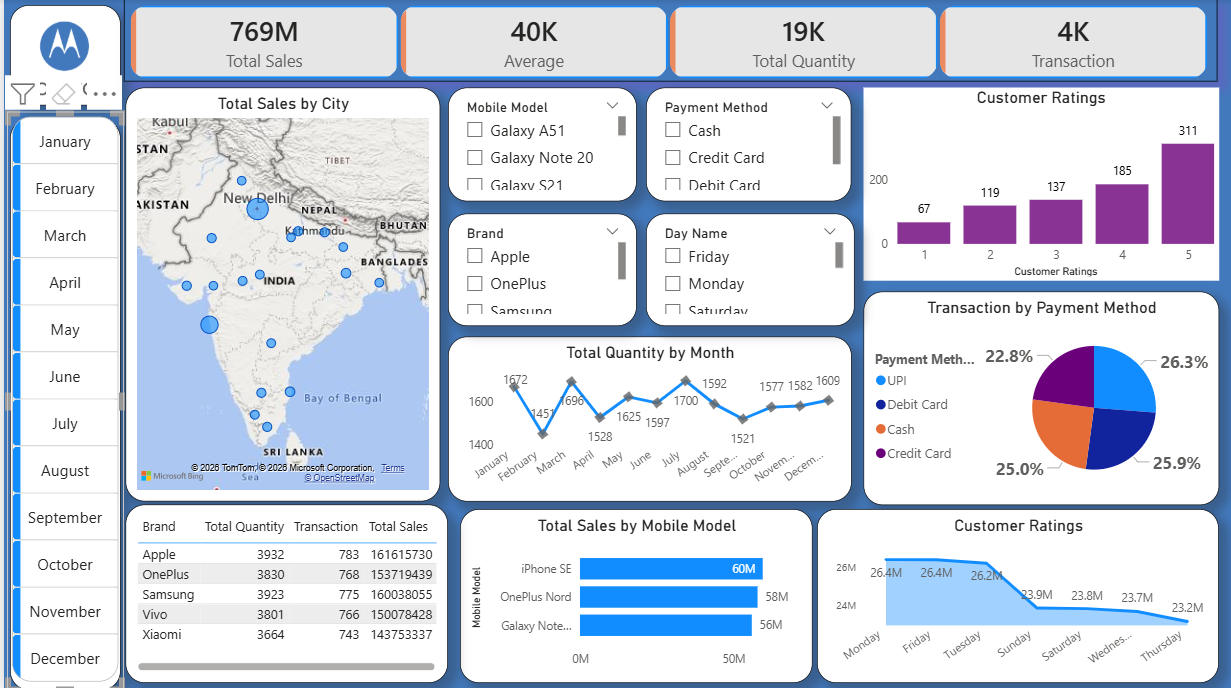

The page's visual inventory and layout, read from the dashboard file:
{"tool":"powerbi","page":{"name":"Page 1","canvas":[1280,720],"ordinal":0},"visuals":[{"type":"shape","box":[6.3,6.3,115.7,104.7],"z":0},{"type":"image","box":[12.5,6.3,101.6,111],"z":1000},{"type":"shape","box":[6.3,125,115.7,595.5],"z":2000},{"type":"advancedSlicerVisual","fields":{"Values":["Sales_Data.Date.Variation.Date Hierarchy.Month"]},"box":[3.1,117.2,121.9,603.3],"z":3000},{"type":"cardVisual","fields":{"Data":["Sales_Data.Total Sales","Sales_Data.Average","Sales_Data.Total Quantity","Sales_Data.Transaction"]},"box":[125,0,1139.4,86],"z":4000},{"type":"map","fields":{"Category":["Sales_Data.City"],"Size":["Sales_Data.Total Sales"]},"box":[126.6,92.2,328.2,431.4],"z":5000},{"type":"lineChart","fields":{"Category":["Sales_Data.Date.Variation.Date Hierarchy.Month","Sales_Data.Date.Variation.Date Hierarchy.Day"],"Y":["Sales_Data.Total Quantity"]},"box":[462.6,351.7,420.4,171.9],"z":6000},{"type":"clusteredBarChart","fields":{"Category":["Sales_Data.Mobile Model"],"Y":["Sales_Data.Total Sales"]},"box":[475.1,531.4,367.3,181.3],"z":7000},{"type":"pieChart","fields":{"Category":["Sales_Data.Payment Method"],"Y":["Sales_Data.Transaction"]},"box":[895.8,304.3,370.4,223],"z":8000},{"type":"clusteredColumnChart","title":"Customer Ratings","fields":{"Category":["Sales_Data.Customer Ratings"],"Y":["CountNonNull(Sales_Data.Customer Ratings)"]},"box":[895.6,92.2,370.4,201.6],"z":9000},{"type":"areaChart","title":"Customer Ratings","fields":{"Category":["Sales_Data.Day Name"],"Y":["Sales_Data.Total Sales"]},"box":[847.1,531.4,418.9,181.3],"z":10000},{"type":"tableEx","fields":{"Values":["Sales_Data.Brand","Sales_Data.Total Quantity","Sales_Data.Transaction","Sales_Data.Total Sales"]},"box":[126.6,526.7,336,186],"z":11000},{"type":"slicer","fields":{"Values":["Sales_Data.Mobile Model"]},"box":[462.6,92.2,196.9,118.8],"z":12000},{"type":"slicer","fields":{"Values":["Sales_Data.Payment Method"]},"box":[669,92.2,214.1,118.8],"z":13000},{"type":"slicer","fields":{"Values":["Sales_Data.Brand"]},"box":[462.6,223.5,196.9,117.2],"z":14000},{"type":"slicer","fields":{"Values":["Sales_Data.Day Name"]},"box":[669,223.5,217.3,117.2],"z":15000}]}

Visuals, with their boxes in screenshot pixels (x1, y1, x2, y2):
shape: (x1=9, y1=9, x2=118, y2=108)
image: (x1=15, y1=9, x2=111, y2=114)
shape: (x1=9, y1=121, x2=118, y2=683)
advancedSlicerVisual - Sales_Data.Date.Variation.Date Hierarchy.Month: (x1=6, y1=114, x2=121, y2=683)
cardVisual - Sales_Data.Total Sales x Sales_Data.Average: (x1=121, y1=3, x2=1197, y2=84)
map - Sales_Data.City x Sales_Data.Total Sales: (x1=123, y1=90, x2=433, y2=498)
lineChart - Sales_Data.Date.Variation.Date Hierarchy.Month x Sales_Data.Date.Variation.Date Hierarchy.Day: (x1=440, y1=335, x2=837, y2=498)
clusteredBarChart - Sales_Data.Mobile Model x Sales_Data.Total Sales: (x1=452, y1=505, x2=798, y2=676)
pieChart - Sales_Data.Payment Method x Sales_Data.Transaction: (x1=849, y1=290, x2=1199, y2=501)
"Customer Ratings" clusteredColumnChart: (x1=849, y1=90, x2=1198, y2=281)
"Customer Ratings" areaChart: (x1=803, y1=505, x2=1198, y2=676)
tableEx - Sales_Data.Brand x Sales_Data.Total Quantity: (x1=123, y1=500, x2=440, y2=676)
slicer - Sales_Data.Mobile Model: (x1=440, y1=90, x2=626, y2=202)
slicer - Sales_Data.Payment Method: (x1=635, y1=90, x2=837, y2=202)
slicer - Sales_Data.Brand: (x1=440, y1=214, x2=626, y2=325)
slicer - Sales_Data.Day Name: (x1=635, y1=214, x2=840, y2=325)
